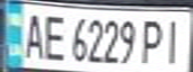2: (84, 15, 106, 64), (103, 16, 124, 65)
6: (66, 14, 90, 63)
9: (118, 16, 139, 65)
A: (18, 9, 48, 61)
E: (39, 10, 69, 62)
I: (160, 15, 190, 65)
P: (139, 16, 169, 65)
